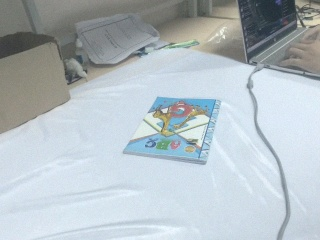book: (120, 97, 224, 163)
box: (1, 31, 71, 142)
